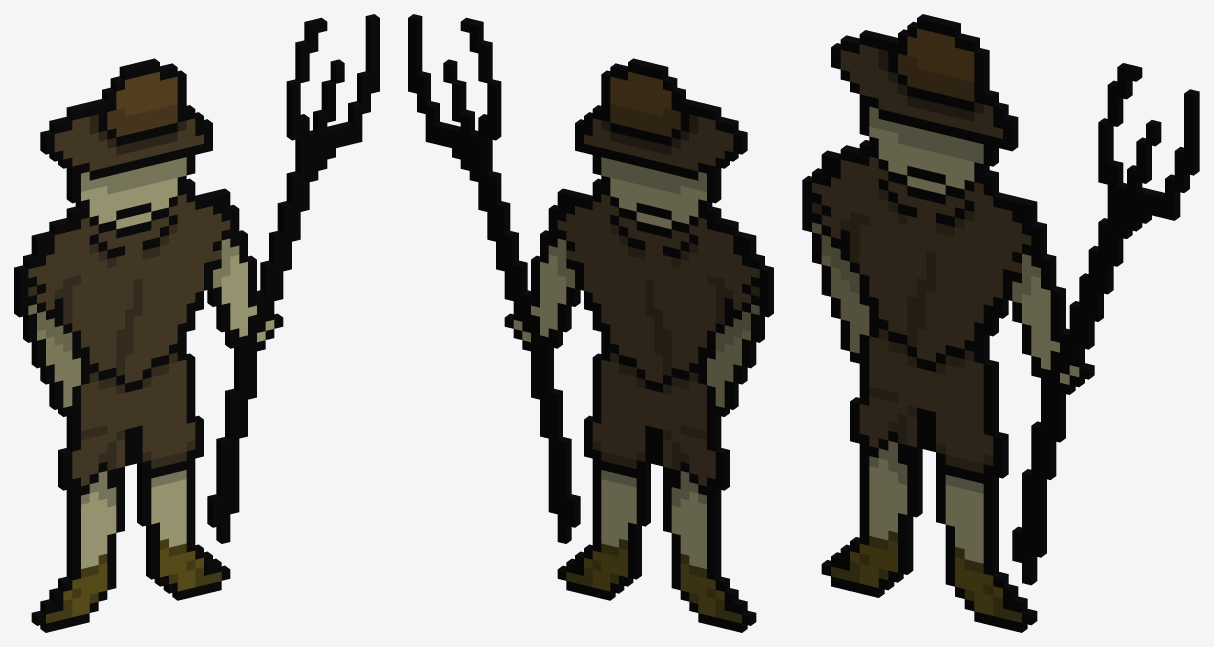
File: Peasant.fbx
The picture shows the model from 3 angles, left to right: view 1: azimuth 30°, elevation 25°; view 2: azimuth 150°, elevation 25°; view 3: azimuth 330°, elevation 25°; orthographic projection. The views are drawn at different scales.
Visible parts, largest first — view 1: Curve.808; view 2: Curve.808; view 3: Curve.808.
Boxes of the visible parts, x1,y1,x2,y2 form: Curve.808: [14, 14, 379, 632]; Curve.808: [408, 14, 773, 632]; Curve.808: [802, 14, 1199, 632].
Size of the model in its own units: 34.71 by 49.94 by 0.9.
